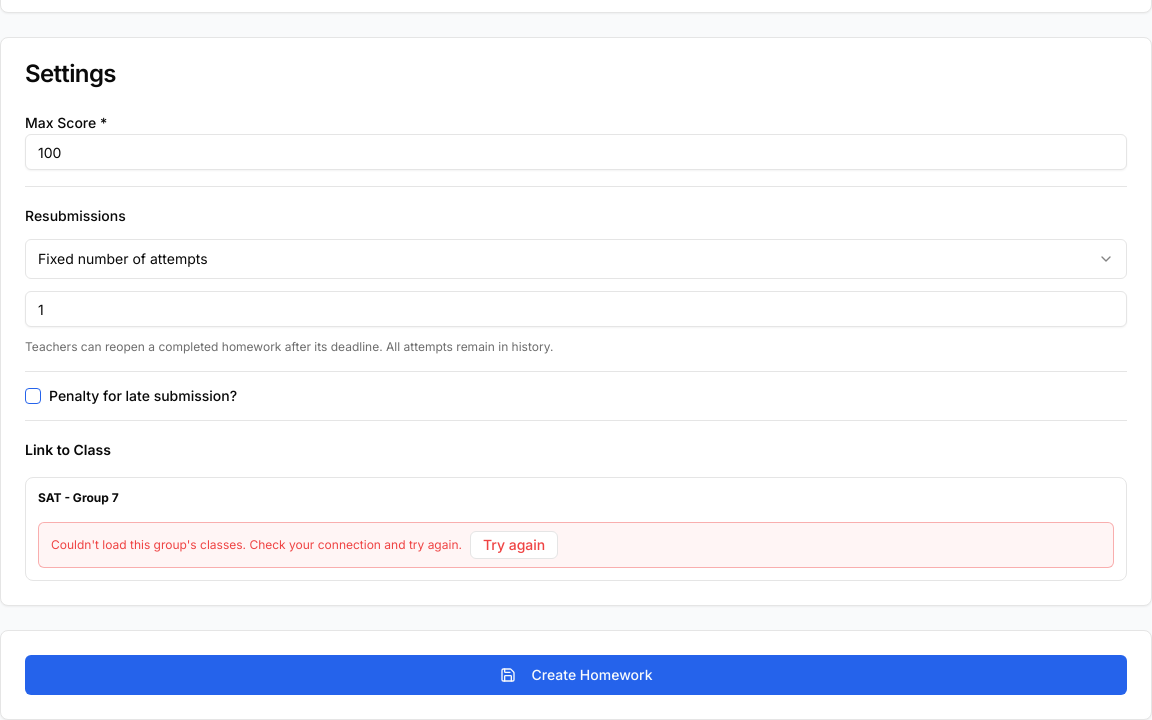
Test: homework builder: «Pick a class» › a dropped request is retried by itself and, if it keeps failing, can be retried by hand
(page scrolled)
Expected: the message shows "Couldn't load", [51, 537, 462, 552]
Click the button "Try again". click: point(514, 545)
box: [470, 531, 558, 559]
(page scrolled)
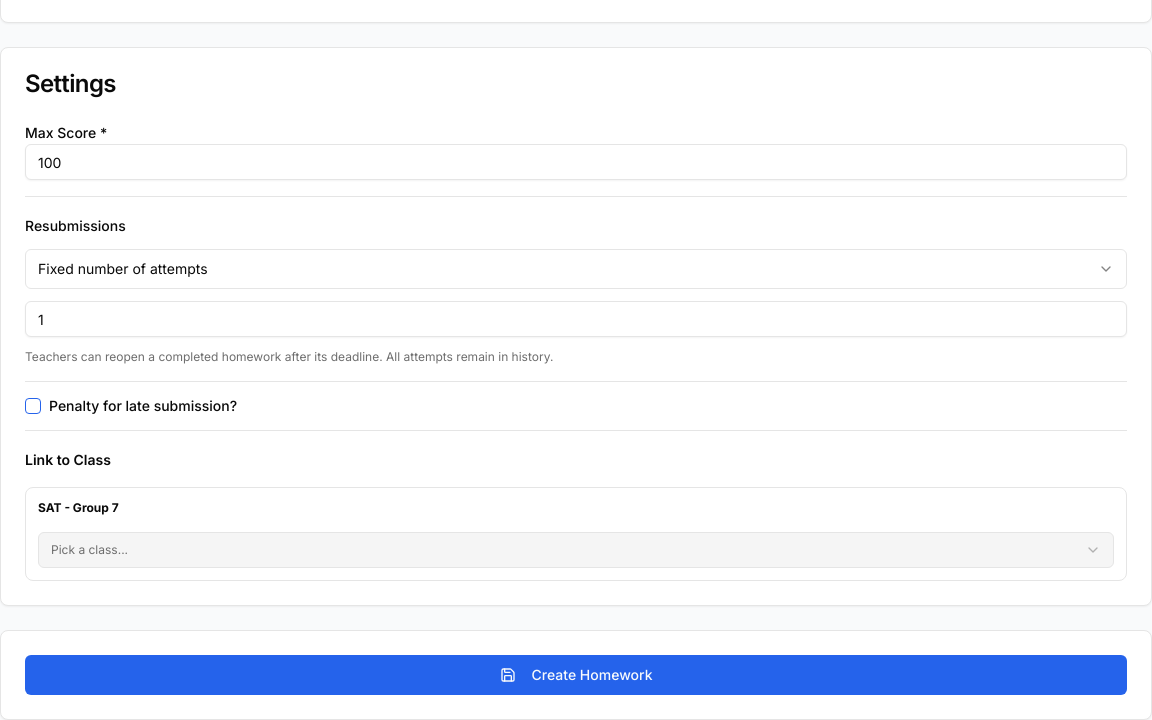
Expected: the message is gone
Expected: the text "Pick a class" is shown, [51, 542, 128, 557]
